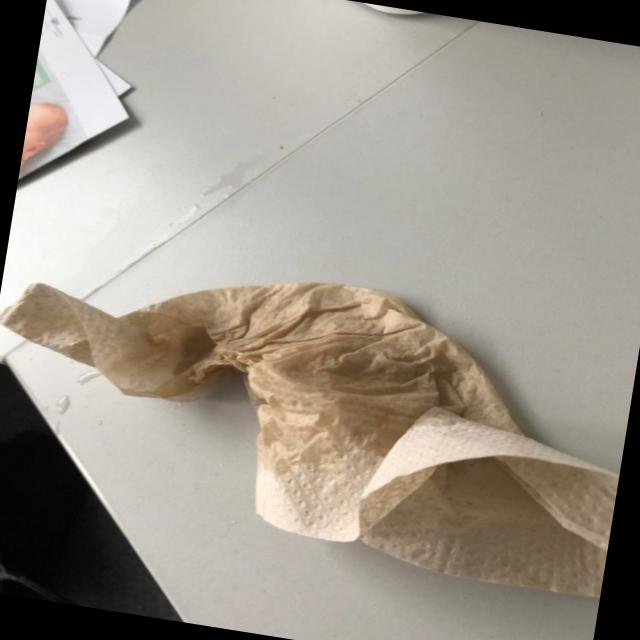organic waste: (0, 230, 638, 602)
